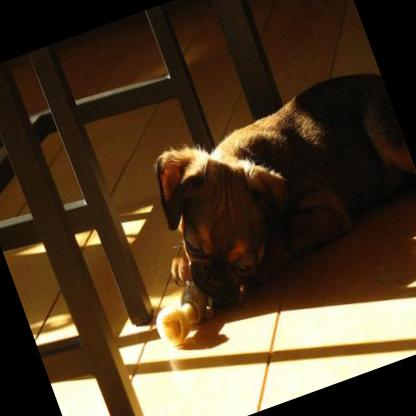Brabancon_griffon: (126, 55, 416, 320)
